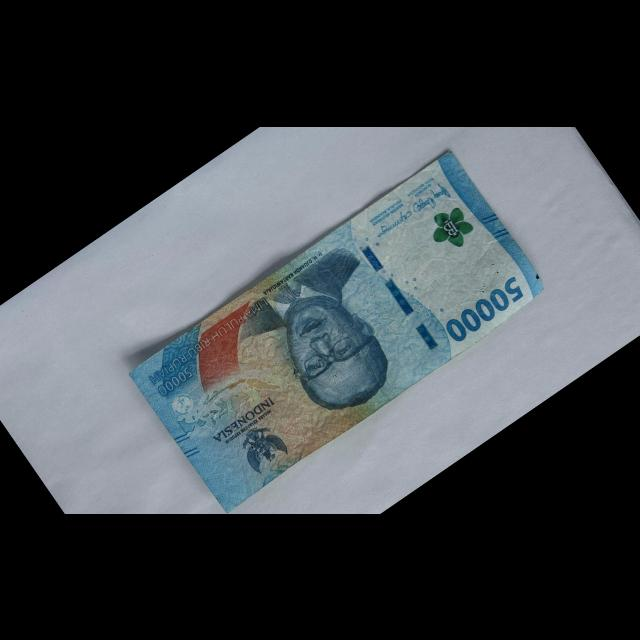Palsu-50k: (123, 143, 552, 516)
Tinta-Palsu-50k: (422, 199, 480, 258)
